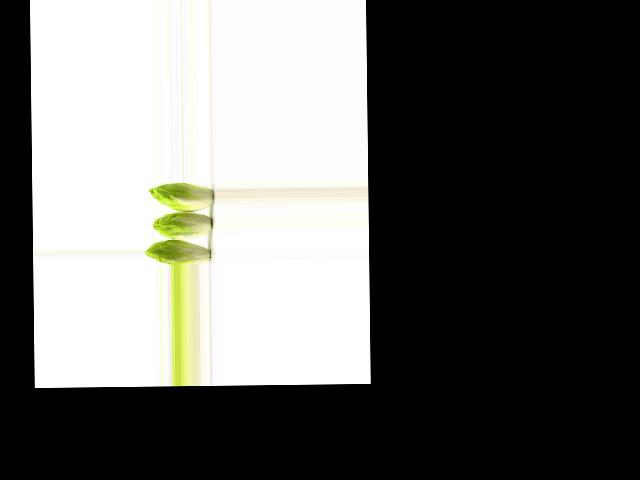lettuce: (148, 182, 216, 211)
